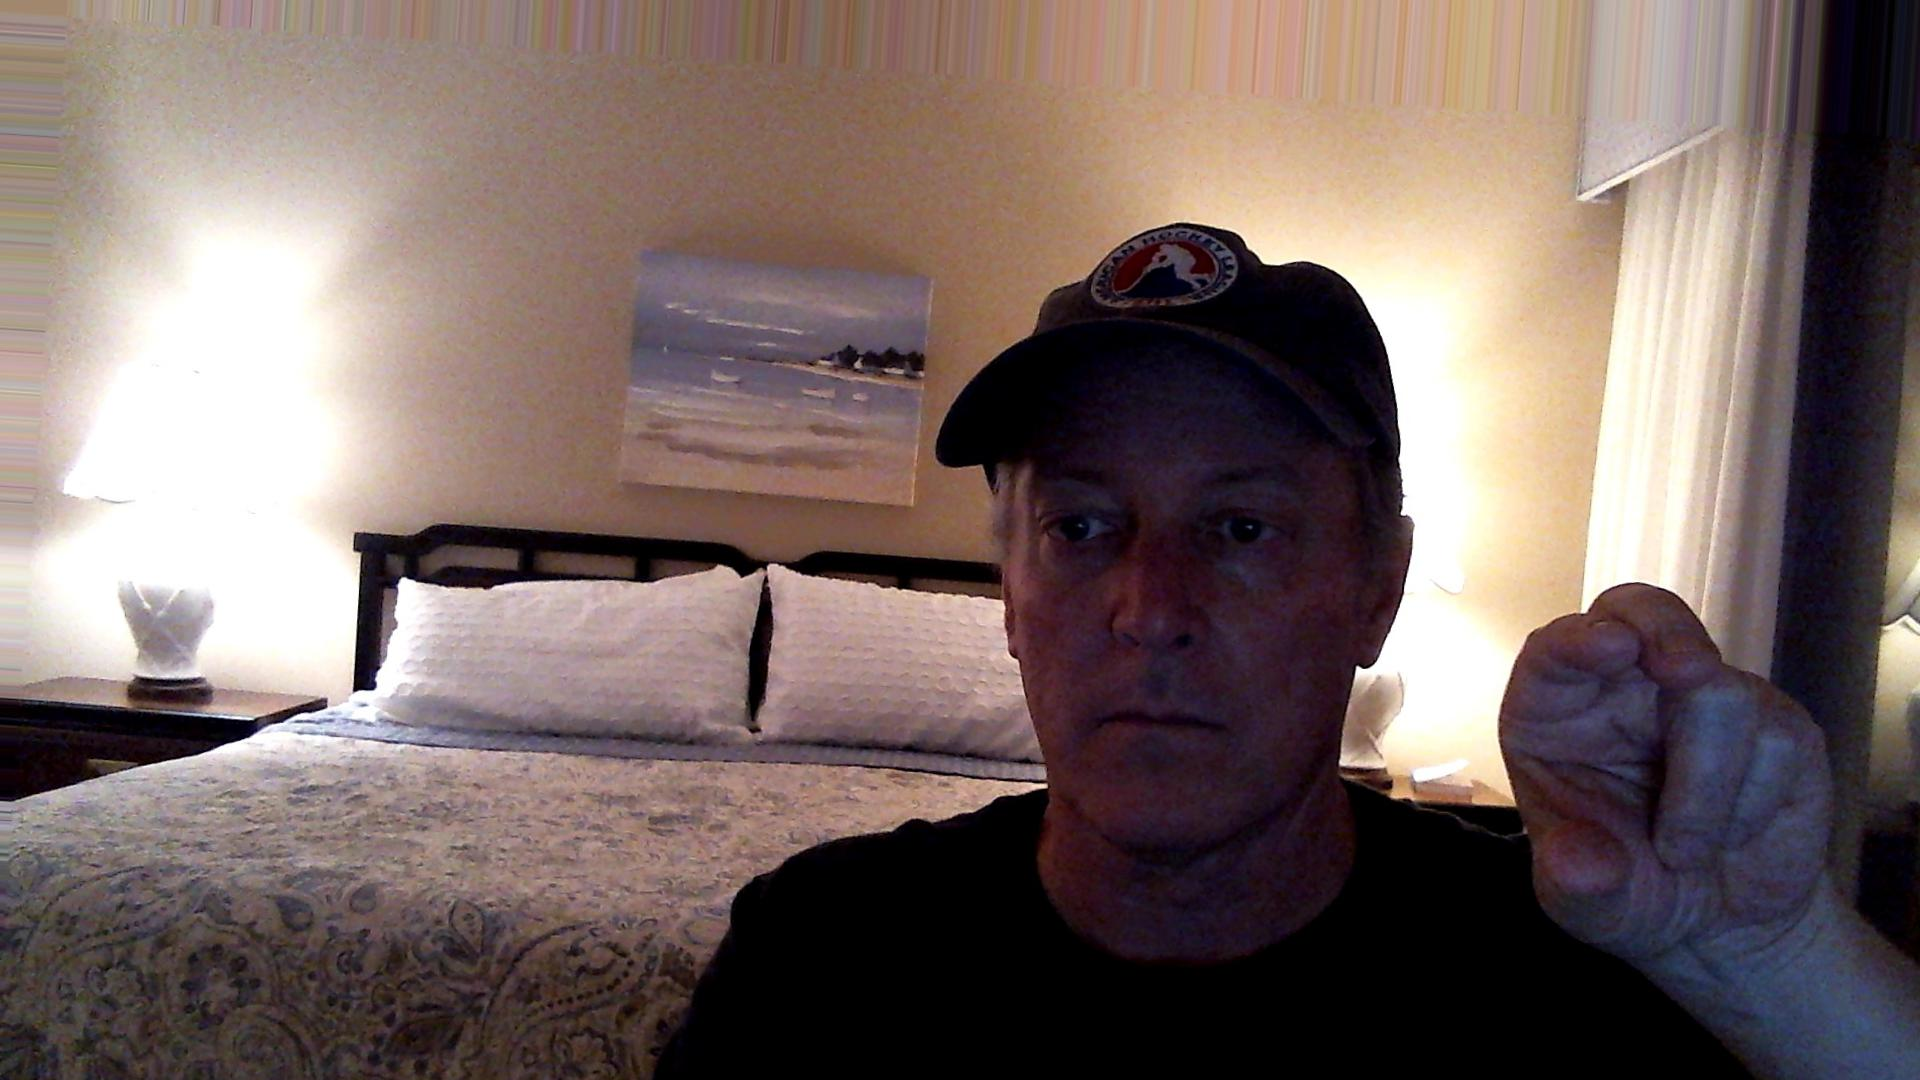No: (1375, 550, 1875, 976)
